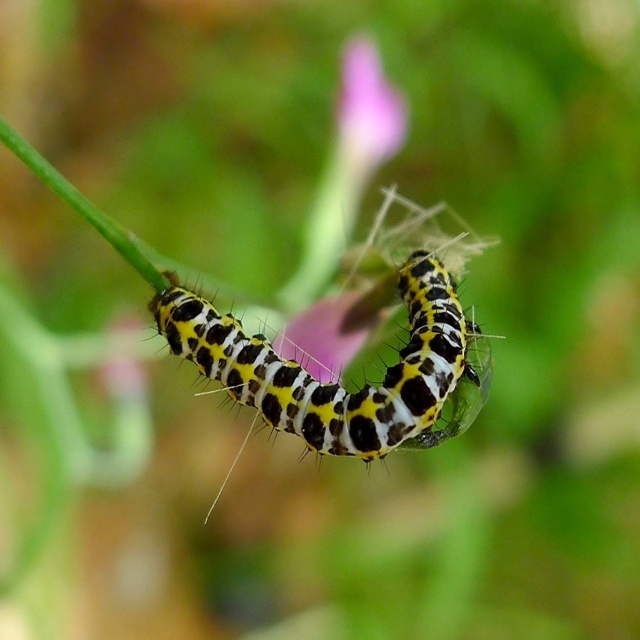Caterpillar: (145, 243, 504, 524)
